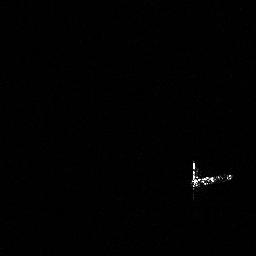ship: (189, 158, 234, 205)
